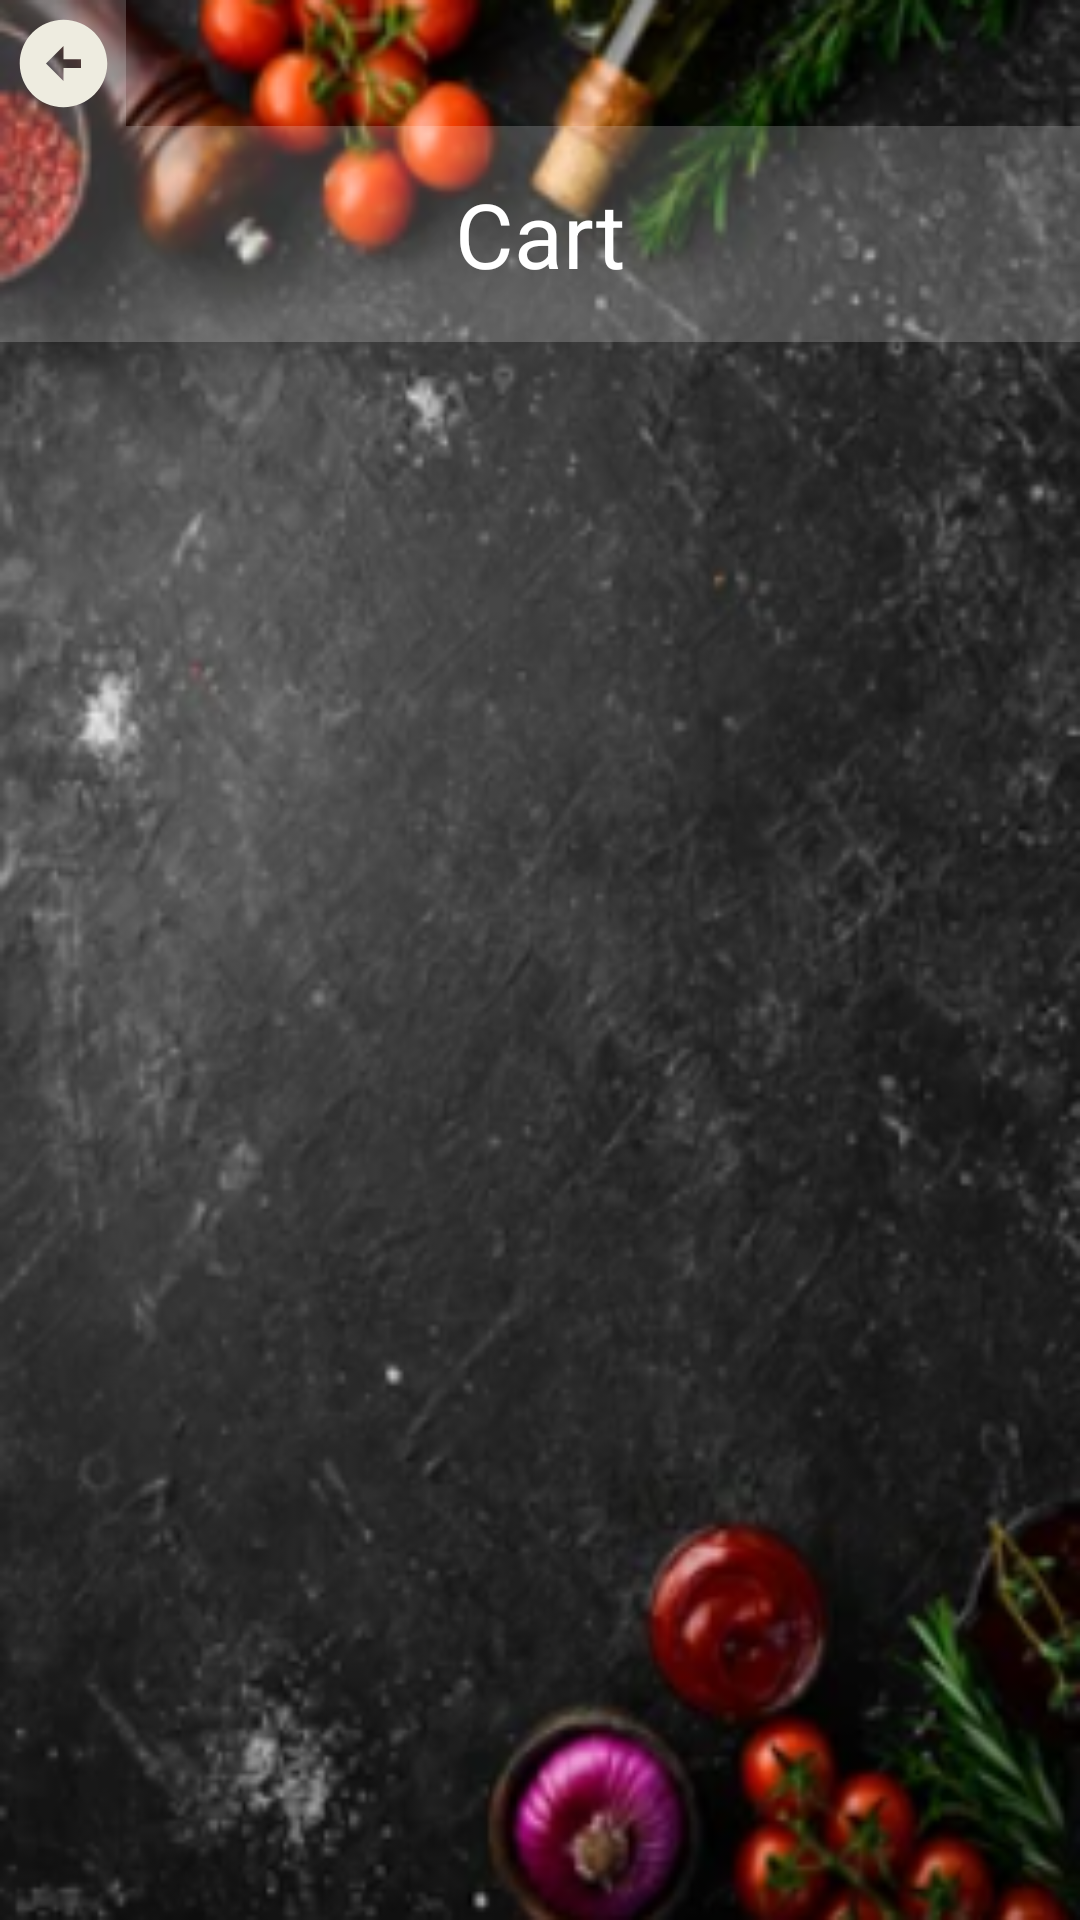

Screen size 1080px×1920px. Icon name, then its center in pixels as (x,y):
arrowleft: (63,63)
